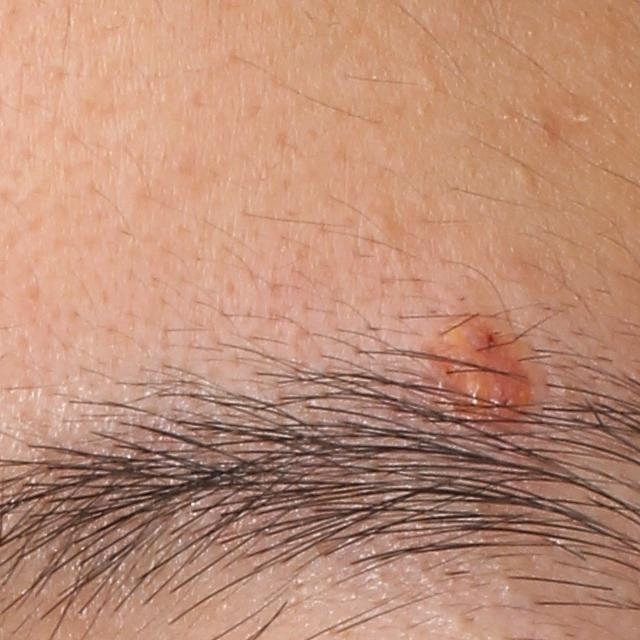comedo: (415, 69, 441, 99), (515, 164, 539, 189)
other: (421, 294, 555, 446)
